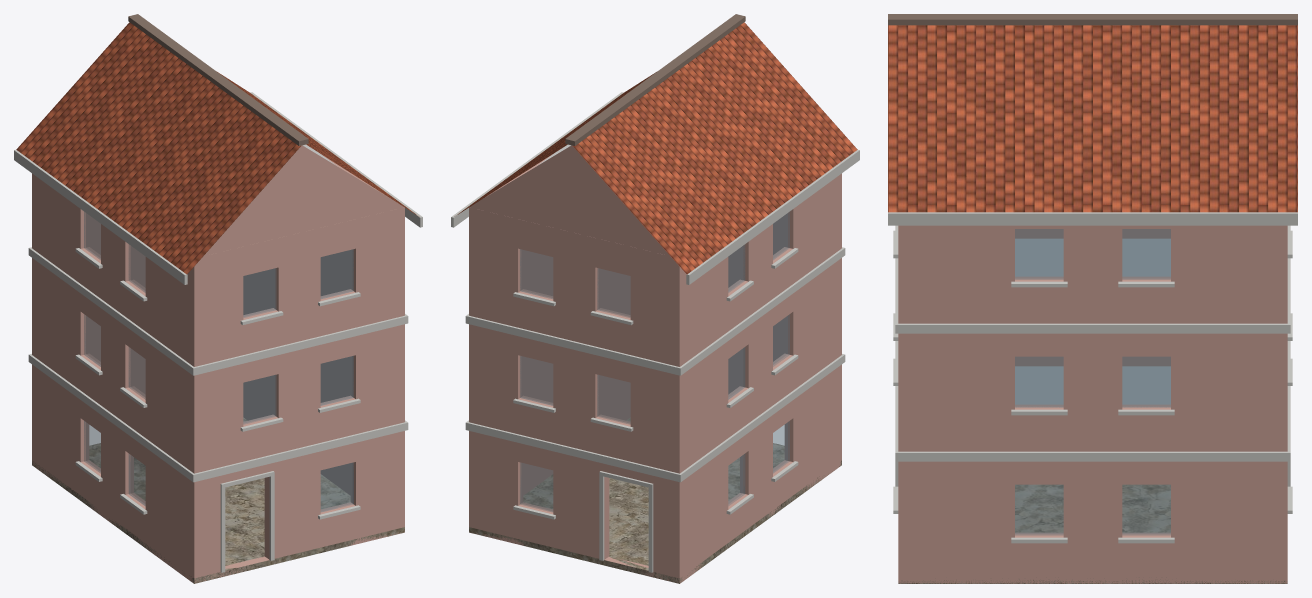
Rendered from cove-house-salmon.coast-v1.lod1.glb.
3 renders of one model, left to right at view 1: azimuth 30°, elevation 25°; view 2: azimuth 150°, elevation 25°; view 3: azimuth 270°, elevation 25°, orthographic. The views are drawn at different scales.
Visible parts, largest first — view 1: cove-house-salmon; view 2: cove-house-salmon; view 3: cove-house-salmon.
Part boxes in pixels (bbox=[...]): cove-house-salmon: bbox=[14, 14, 422, 583]; cove-house-salmon: bbox=[451, 14, 859, 583]; cove-house-salmon: bbox=[888, 14, 1297, 583].
Bounding box in the file's own units: 6.78 × 11.46 × 8.42.
Materials: 4 (2 with a texture image).
